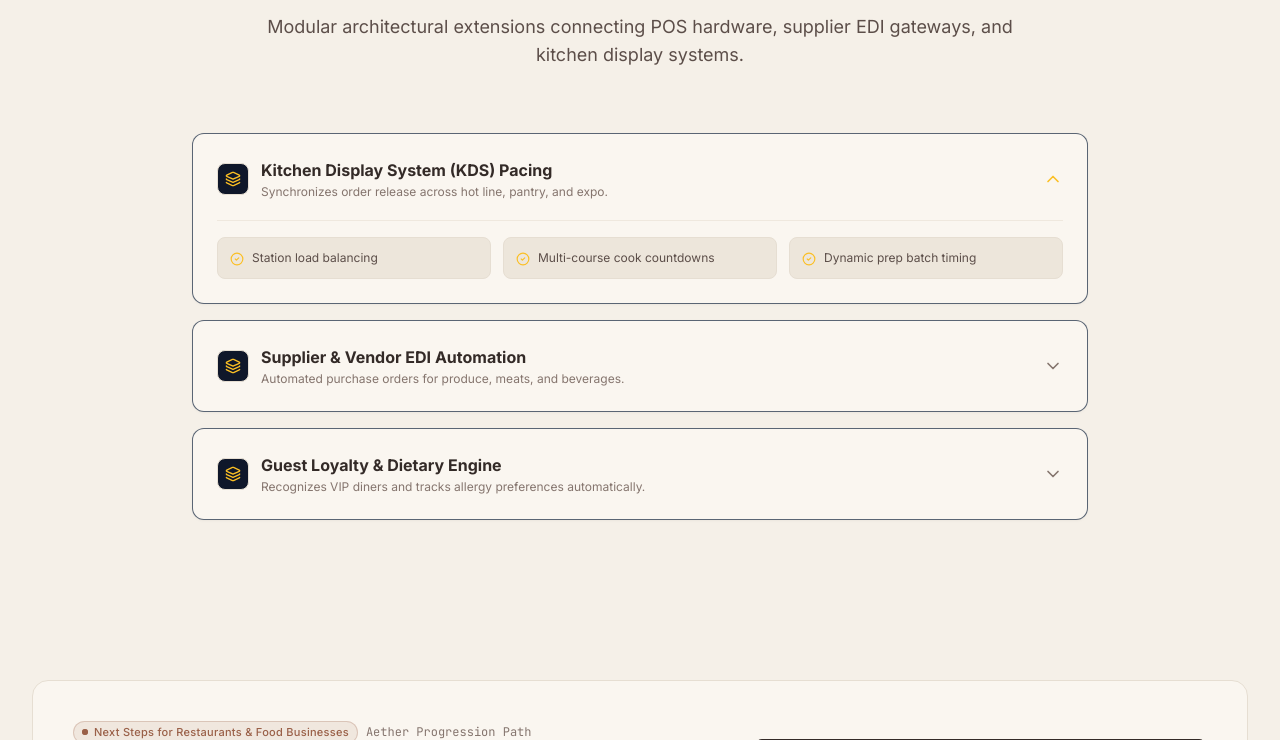
Test: RestaurantExperience › toggles accordion items in additional capabilities
(page scrolled)
Expected: the heading "Kitchen Display System (KDS) Pacing" is shown, [261, 160, 552, 180]
# Toggle second accordion item
Click the button "Supplier & Vendor EDI Automation" at (233, 366), box [217, 345, 1063, 387]
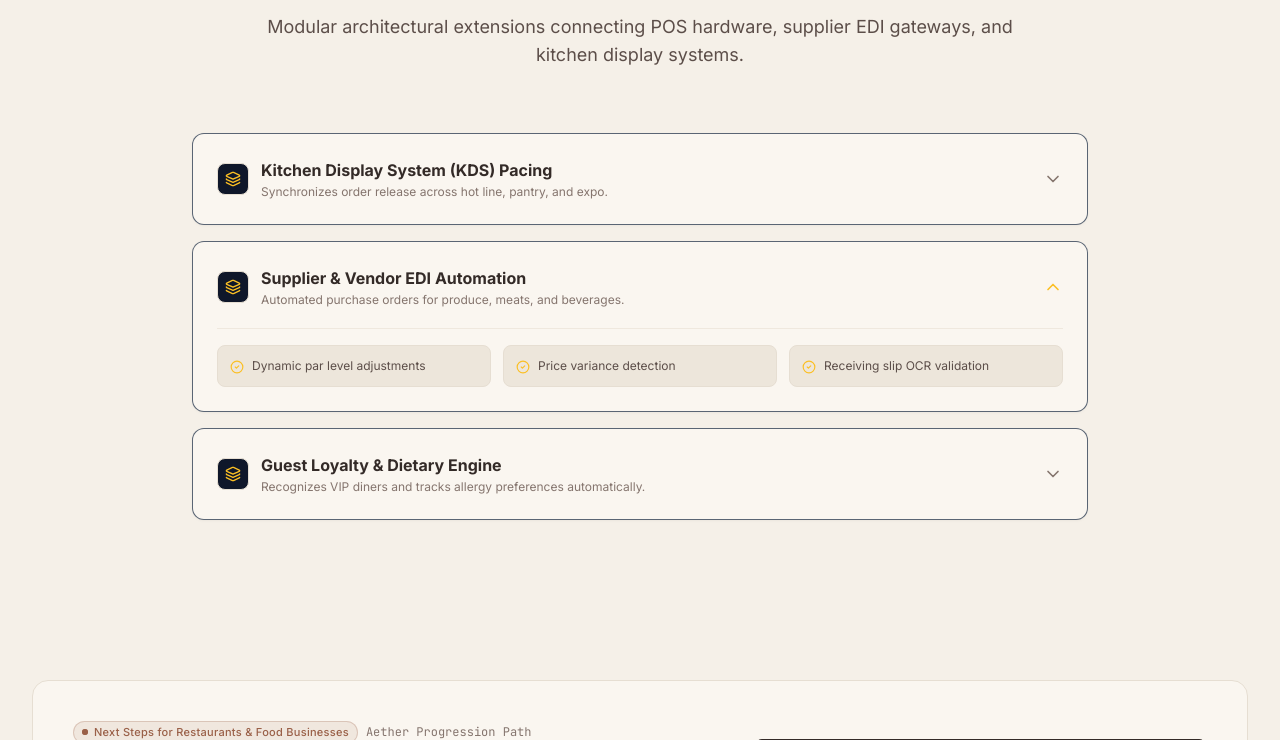
Expected: the text "Dynamic par level adjustments" is shown, [252, 358, 426, 374]
